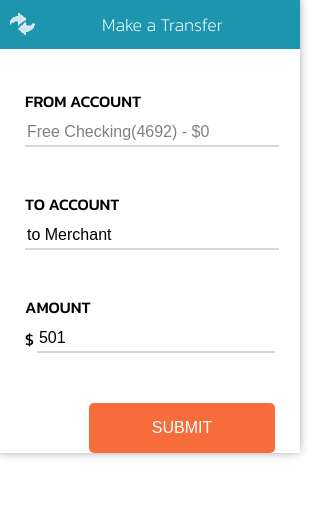
Test: TransactionForm.vue › displays error message when transaction takes account below threshold
The width and height of the screenshot is (322, 525).
Step 1. Click the button with class "submit-button" → click(182, 428), box [89, 403, 275, 453]
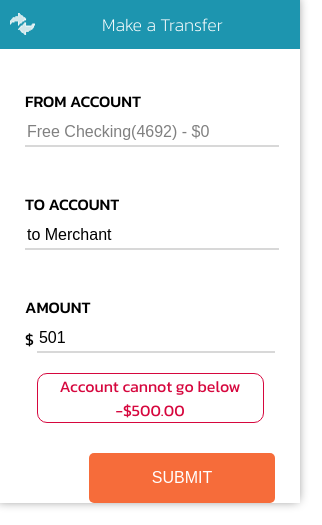
Result: the text "Account cannot go below -$500.00" is shown at [36, 373, 264, 423]
